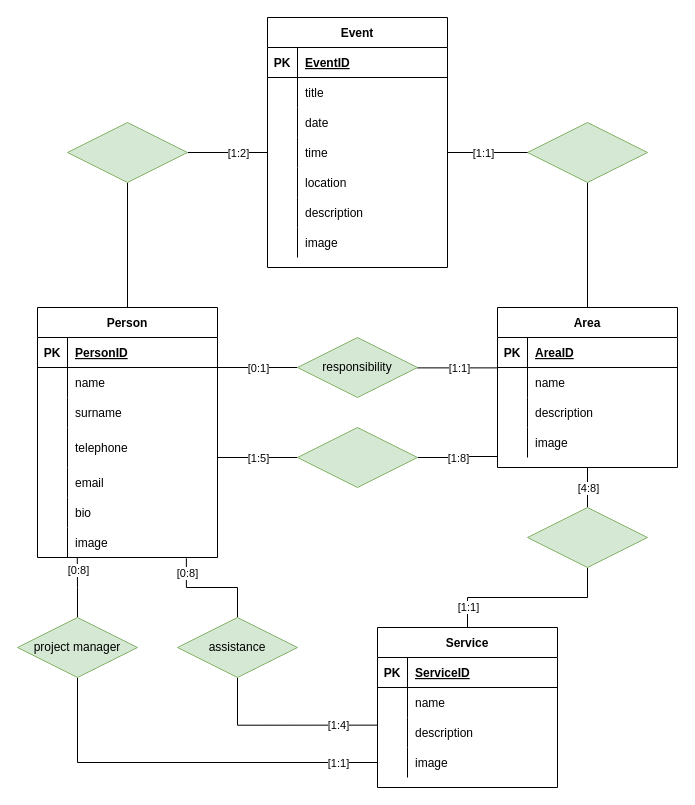
This 695x805 diagram has some shape labels left out. Each missing label, with the box of its shape:
employee: (296, 426, 418, 488)
hosted by: (66, 122, 188, 182)
provide: (526, 506, 648, 568)
related to: (526, 122, 648, 182)
